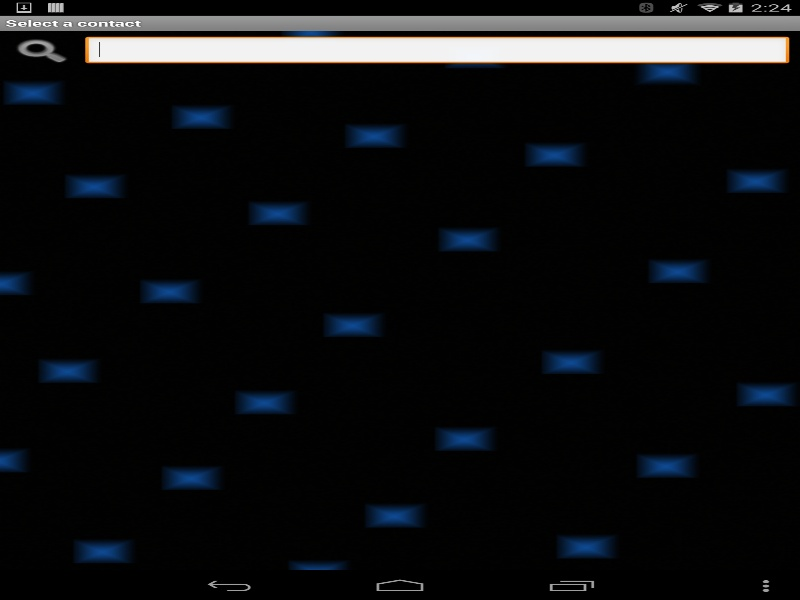Input: (85, 36, 789, 66)
